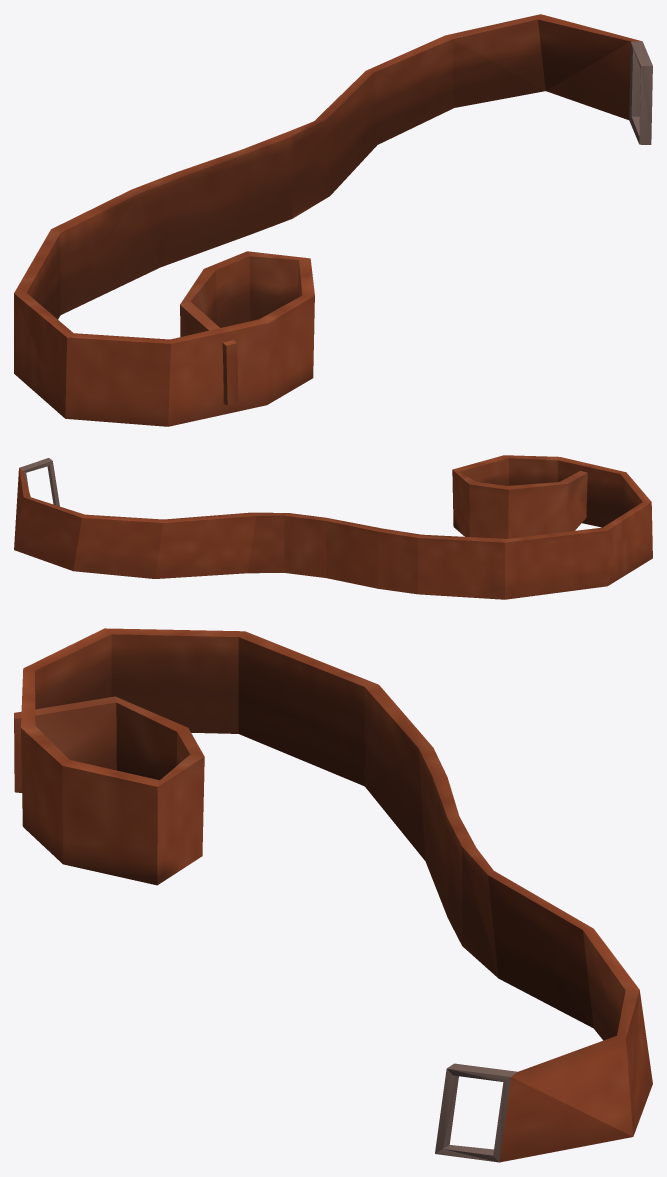
Rendered from Sling.fbx.
3 renders of one model, top to bottom at view 1: azimuth 30°, elevation 25°; view 2: azimuth 150°, elevation 25°; view 3: azimuth 270°, elevation 25°, orthographic. The views are drawn at different scales.
Parts seen in each view (by area): view 1: Belt002; view 2: Belt002; view 3: Belt002.
Part boxes in pixels (<box>): Belt002: <box>14,14,652,426</box>; Belt002: <box>14,455,652,599</box>; Belt002: <box>14,628,652,1162</box>.
Bounding box in the file's own units: 0.7867 × 0.087 × 0.484.
